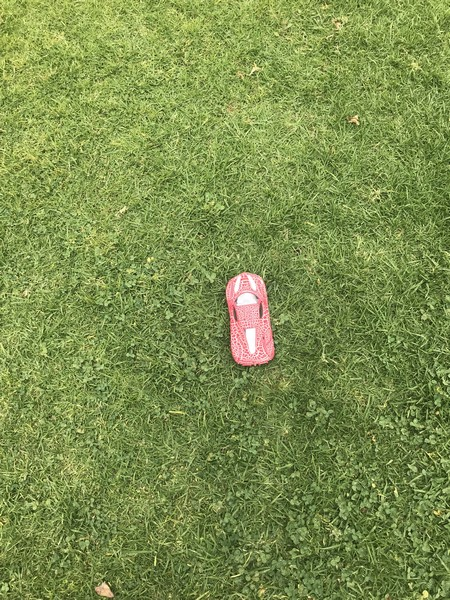RC: (225, 271, 278, 367)
